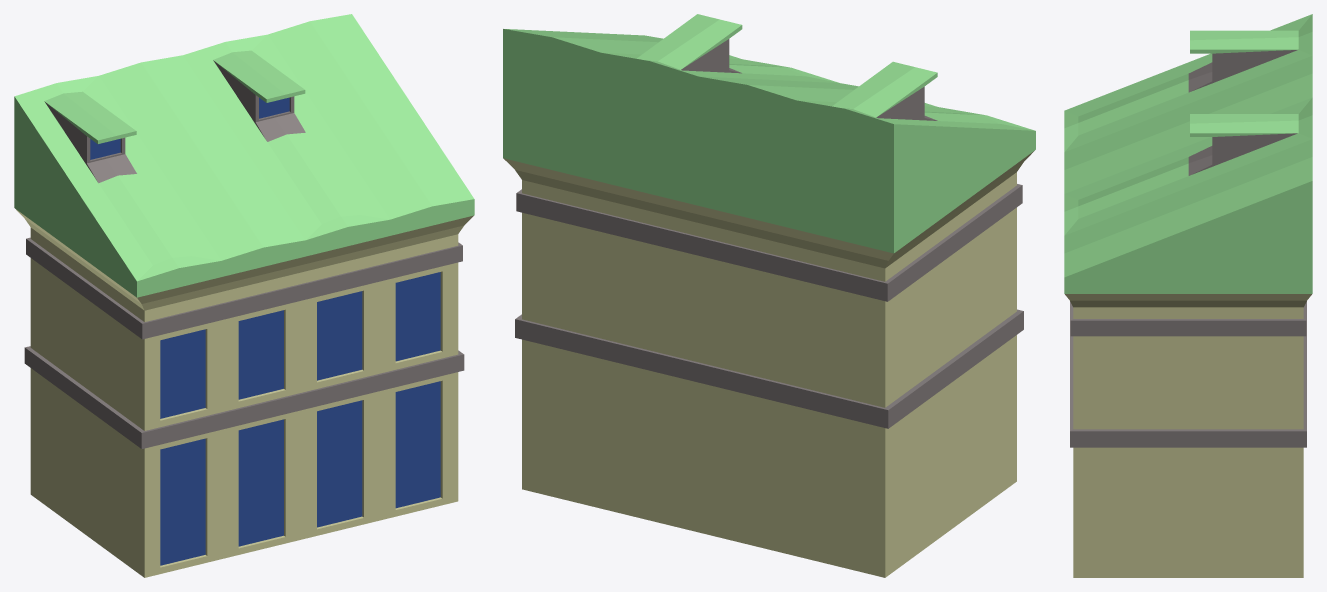
File: Concept Model House.fbx
The picture shows the model from 3 angles, left to right: view 1: azimuth 30°, elevation 25°; view 2: azimuth 150°, elevation 25°; view 3: azimuth 270°, elevation 25°; orthographic projection. The views are drawn at different scales.
Visible parts, largest first — view 1: Cube; view 2: Cube; view 3: Cube.
Boxes of the visible parts, x1,y1,x2,y2 form: Cube: (14,14,474,577); Cube: (503,14,1035,577); Cube: (1064,14,1312,577).
Size of the model in its own units: 818 by 929 by 514.
